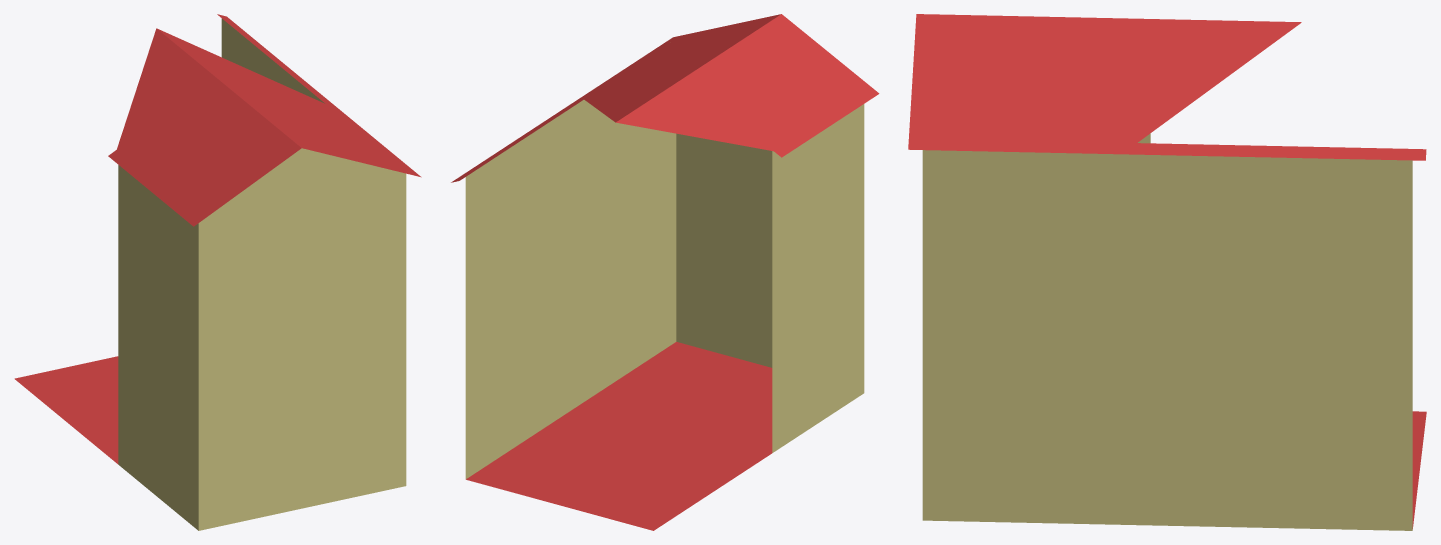
3 renders of one model, left to right at view 1: azimuth 30°, elevation 25°; view 2: azimuth 150°, elevation 25°; view 3: azimuth 270°, elevation 25°, orthographic. The views are drawn at different scales.
Bounding box in the file's own units: 6.05 × 9.34 × 8.8.
